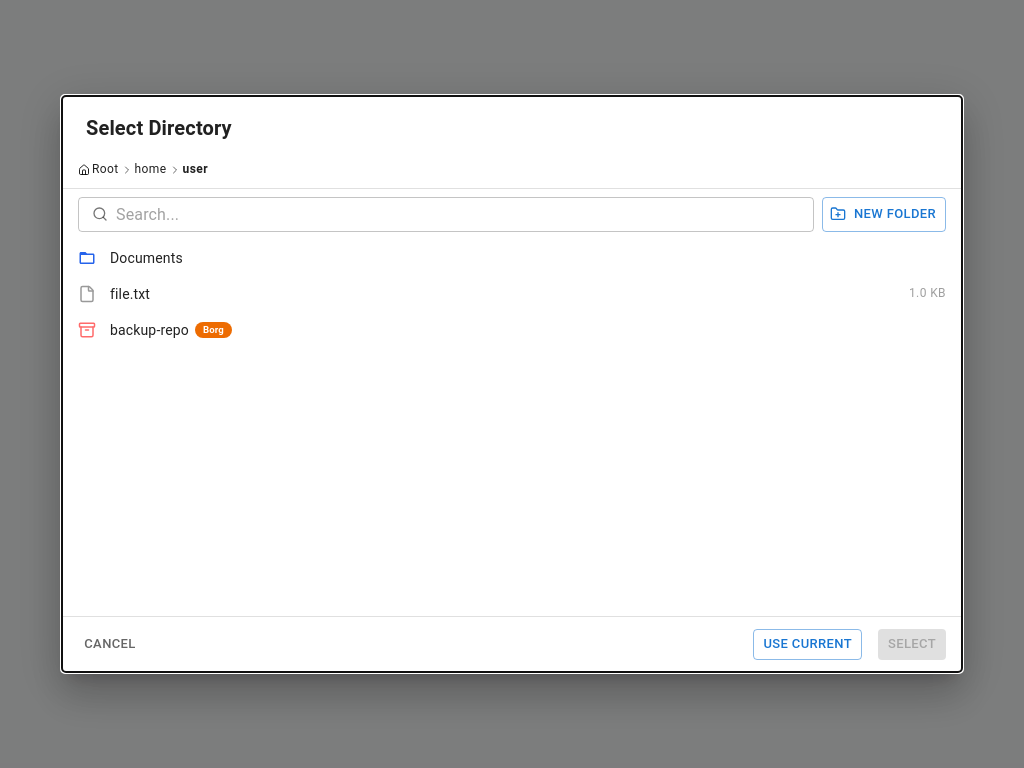
Test: FileExplorerDialog › Create Folder › opens create folder dialog
expect the text "Documents" is shown: met, box top-left (110, 248), bottom-right (183, 268)
Click the button "New Folder".
click(884, 214)  # box top-left (822, 197), bottom-right (946, 232)
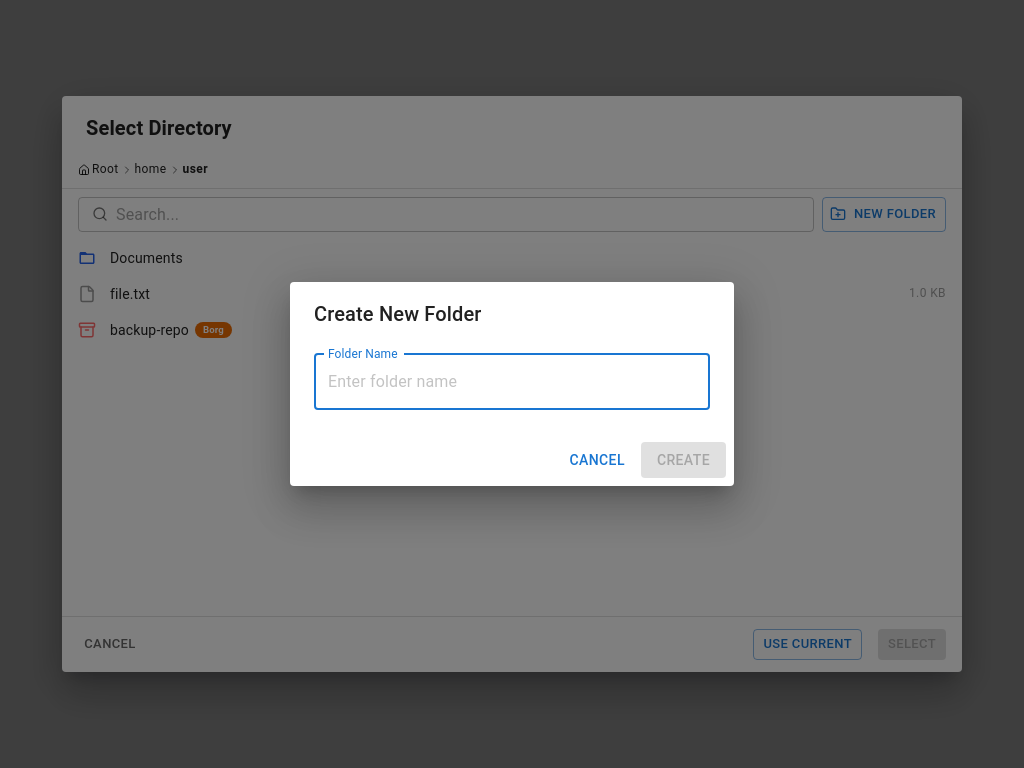
expect the heading "Create New Folder" is shown: met, box top-left (314, 302), bottom-right (482, 326)
expect the field labelled "Folder Name" is shown: met, box top-left (314, 354), bottom-right (710, 410)
